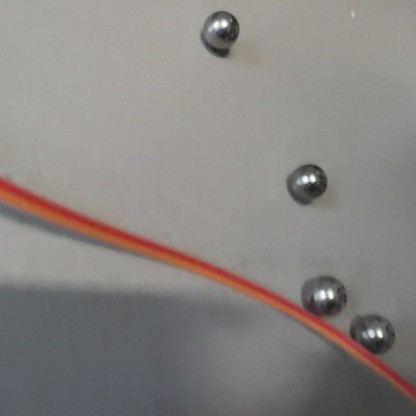ironball: (305, 273, 347, 316), (354, 312, 394, 355), (289, 163, 326, 204), (201, 11, 237, 49)
